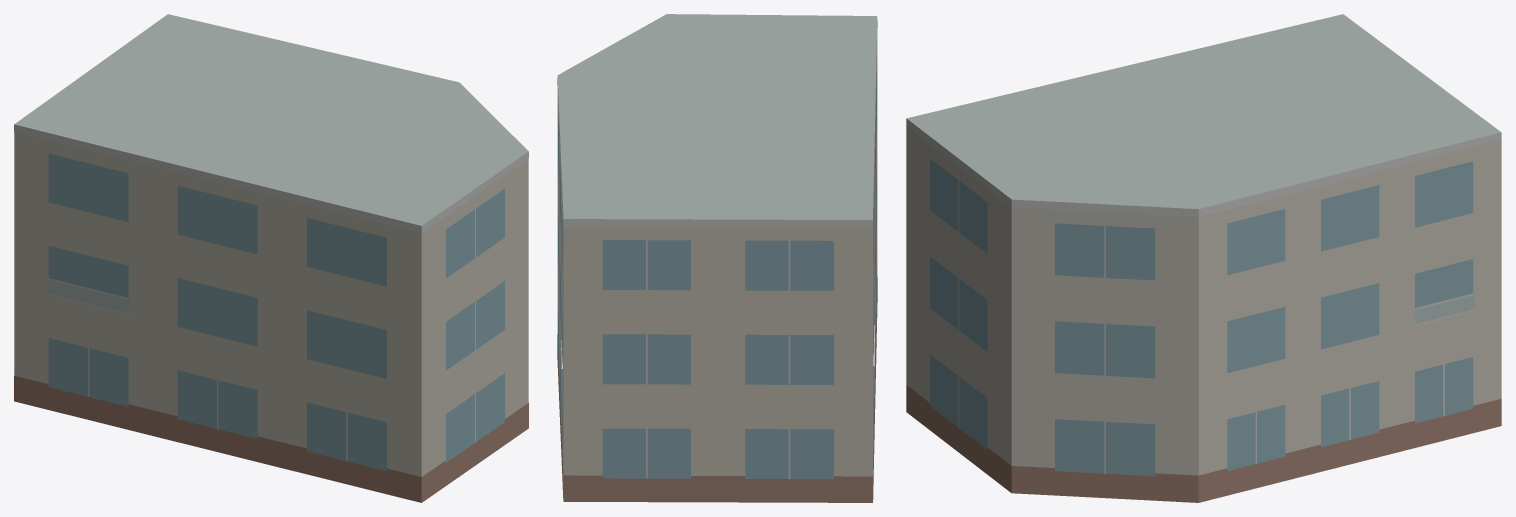
Rendered from survey-upis-32804051.glb.
3 views of the same model, side by side, from view 1: azimuth 30°, elevation 25°; view 2: azimuth 150°, elevation 25°; view 3: azimuth 270°, elevation 25° (orthographic). The views are drawn at different scales.
Parts seen in each view (by area): view 1: survey-upis-32804051.tmp; view 2: survey-upis-32804051.tmp; view 3: survey-upis-32804051.tmp.
Boxes of the visible parts, x1,y1,x2,y2 form: survey-upis-32804051.tmp: (14,14,528,502); survey-upis-32804051.tmp: (557,14,877,502); survey-upis-32804051.tmp: (906,14,1501,502).
Bounding box in the file's own units: 13.05 × 9.15 × 16.81.
